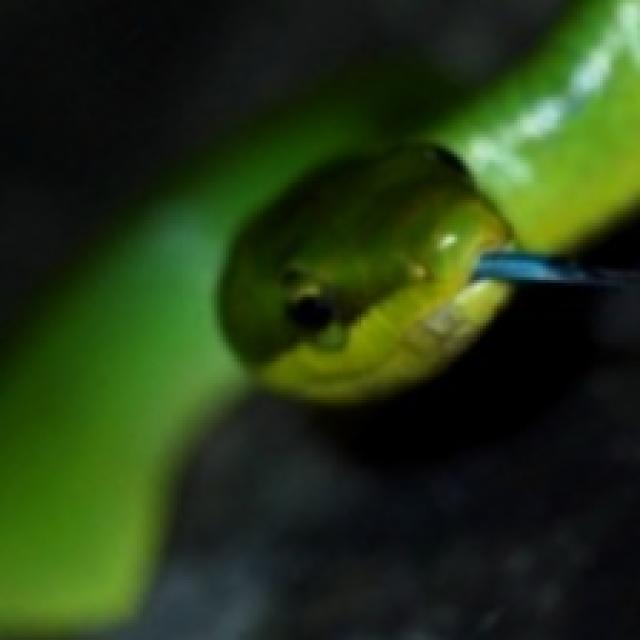red-tailed green ratsnake: (0, 0, 637, 634), (220, 0, 637, 400), (406, 283, 500, 369), (277, 346, 357, 391), (357, 323, 394, 383)
